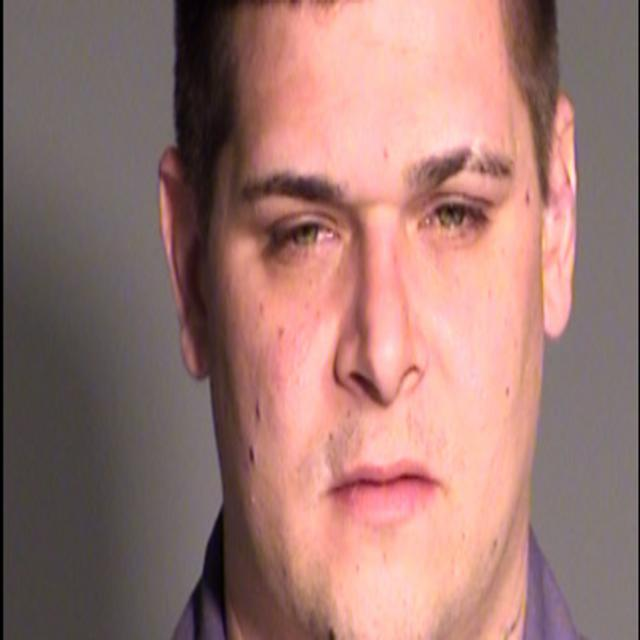human: (149, 6, 582, 640)
